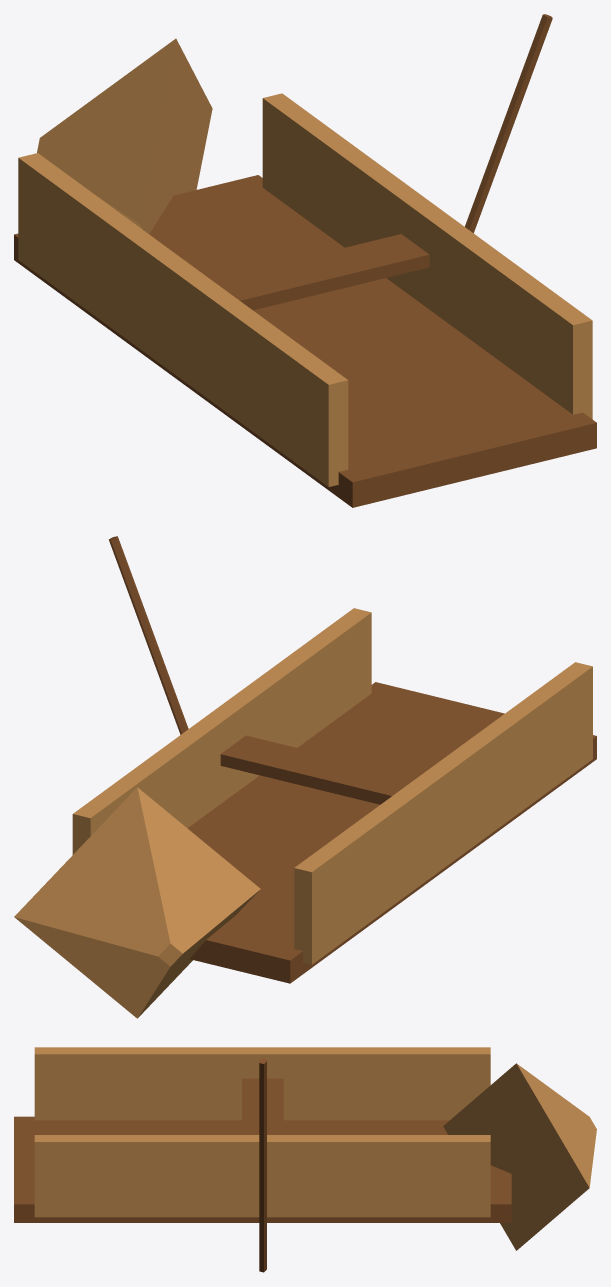
Rendered from rowboat.glb.
3 renders of one model, top to bottom at view 1: azimuth 30°, elevation 25°; view 2: azimuth 150°, elevation 25°; view 3: azimuth 270°, elevation 25°, orthographic. The views are drawn at different scales.
Visible parts, largest first — view 1: rowboat; view 2: rowboat; view 3: rowboat.
Boxes of the visible parts, box(x1,y1,x2,y2) form: rowboat: box(14, 14, 596, 507); rowboat: box(14, 536, 596, 1018); rowboat: box(14, 1047, 596, 1272).
Bounding box in the file's own units: 1.55 × 1.4 × 2.81.
